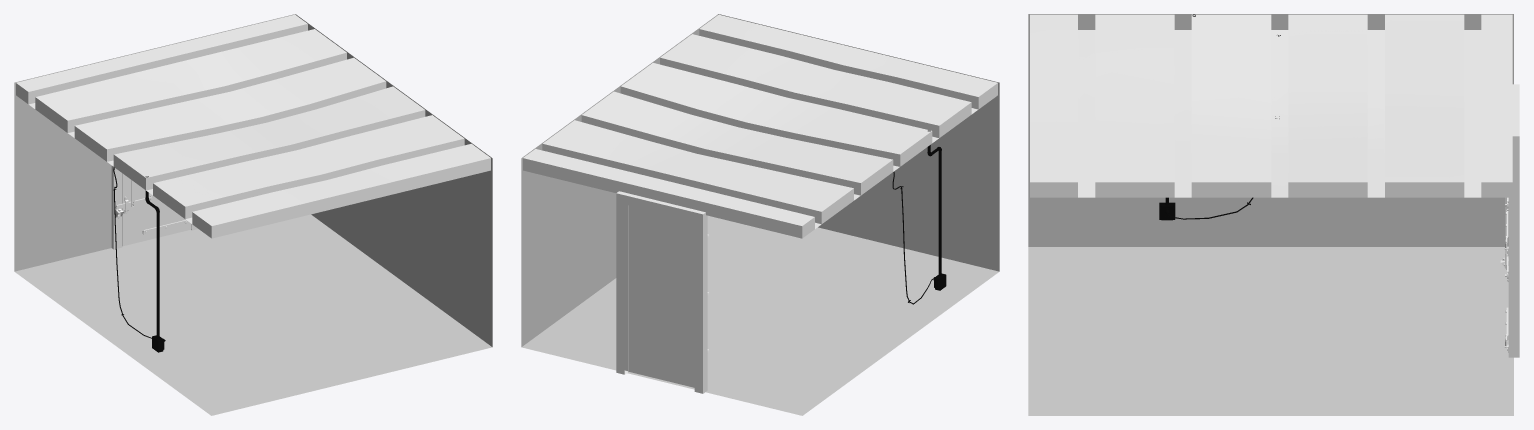
File: nochair.glb
The picture shows the model from 3 angles, left to right: view 1: azimuth 30°, elevation 25°; view 2: azimuth 150°, elevation 25°; view 3: azimuth 270°, elevation 25°; orthographic projection. The views are drawn at different scales.
Parts seen in each view (by area): view 1: wallsAndFloor, ceiling, theDoor:door, lampWithOutlet, theDoor:rusted_iron; view 2: wallsAndFloor, ceiling, theDoor:door, lampWithOutlet; view 3: wallsAndFloor, ceiling, theDoor:door, lampWithOutlet.
Part boxes in pixels (x1,y1,x2,y2): wallsAndFloor: [14, 14, 492, 415]; ceiling: [16, 14, 490, 238]; theDoor:door: [111, 166, 197, 249]; lampWithOutlet: [113, 167, 165, 352]; theDoor:rusted_iron: [115, 180, 190, 234]; wallsAndFloor: [521, 14, 999, 415]; ceiling: [523, 14, 997, 238]; theDoor:door: [616, 191, 707, 393]; lampWithOutlet: [892, 130, 946, 304]; wallsAndFloor: [1028, 14, 1513, 415]; ceiling: [1030, 14, 1512, 197]; theDoor:door: [1508, 84, 1519, 357]; lampWithOutlet: [1159, 14, 1280, 220].
Size of the model in its own units: 491 by 316 by 602.
Materials: 8 (1 with a texture image).
